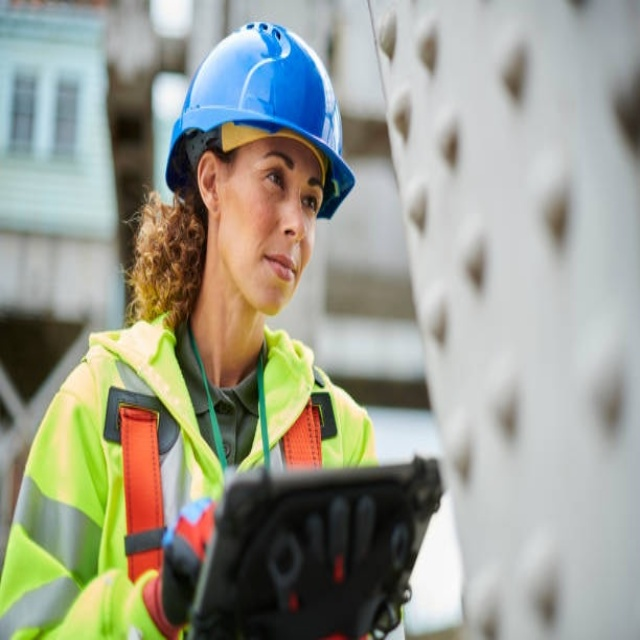Guantes: (268, 494, 410, 635), (150, 497, 217, 637)
Sin_gafas: (251, 144, 325, 226)
Sin_mascara: (251, 238, 306, 298)
